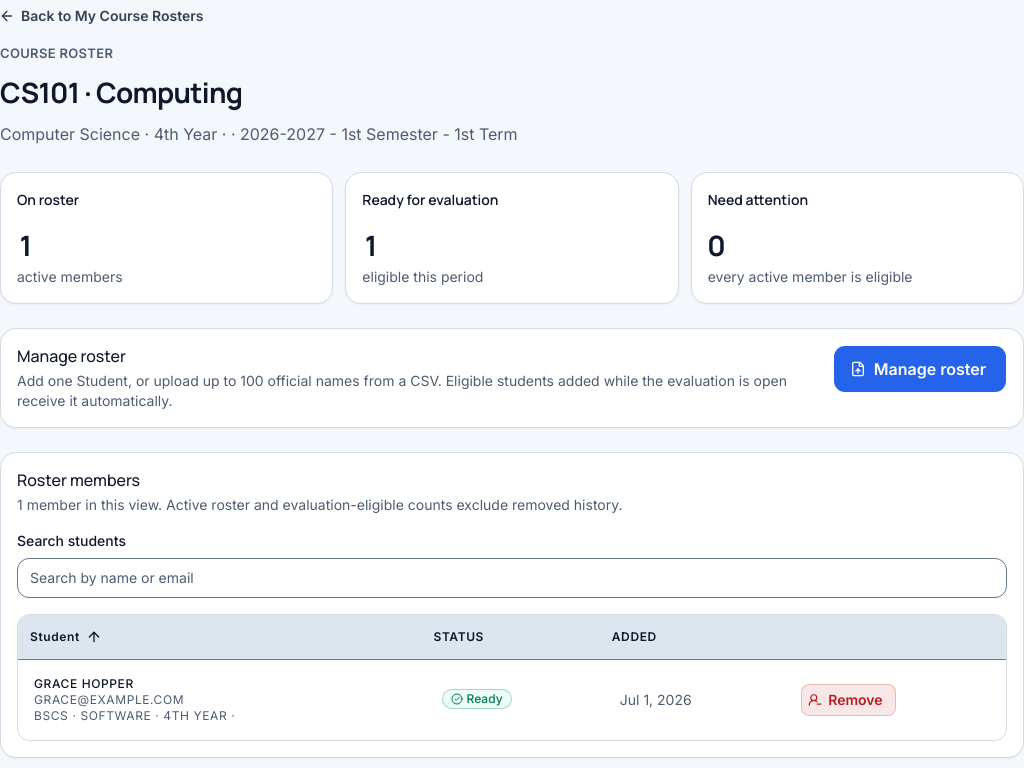
Test case: course roster pages › preserves submitted responses when removing from a published roster
Click the button "Remove". click: (848, 700)
box: [801,684,896,716]
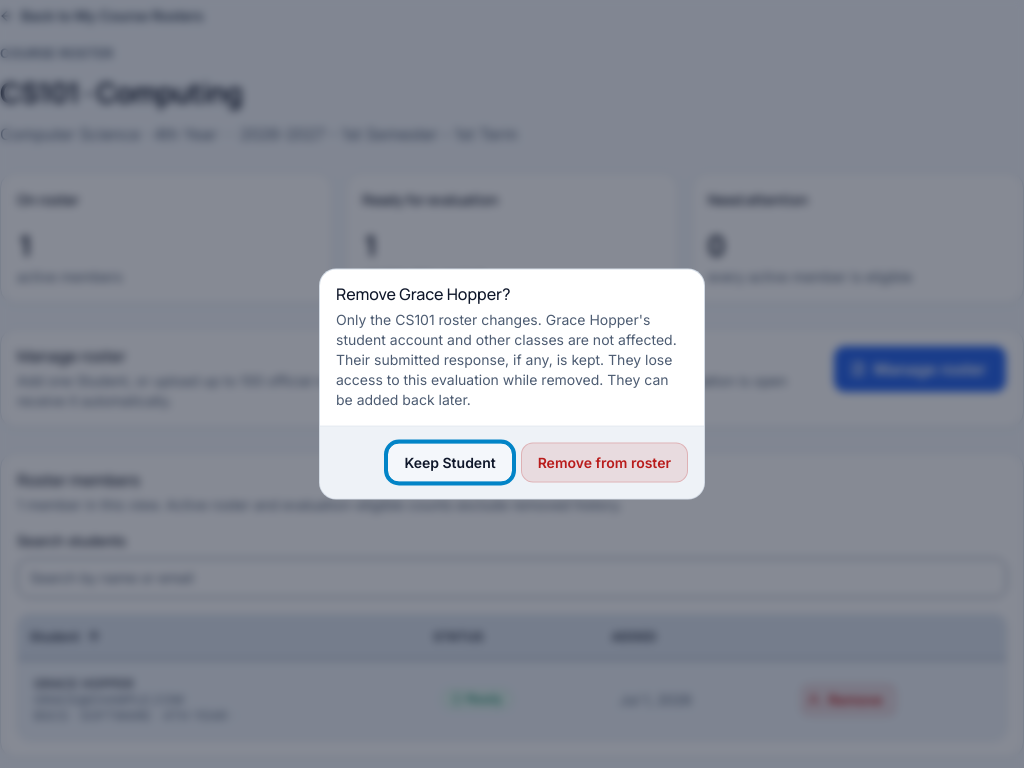
Now the dialog shows "submitted response, if any, is kept", box [336,310,677,368]
Now the dialog shows "lose access to this evaluation while removed", box [336,350,672,388]
